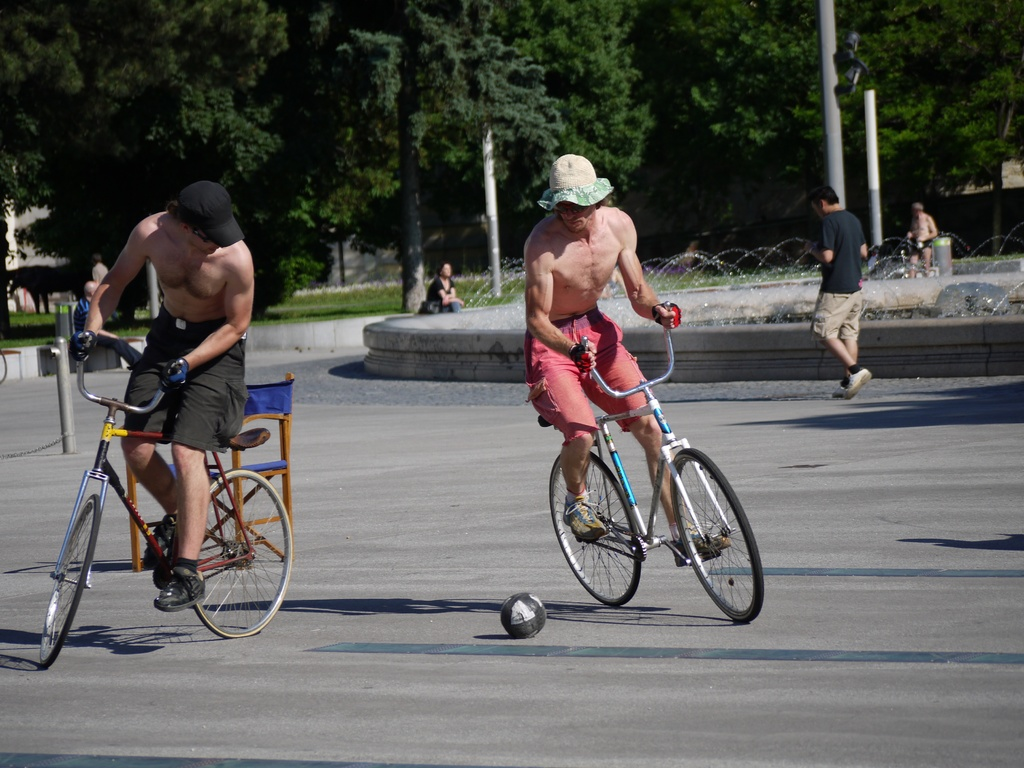Bike_toward: (30, 329, 301, 675), (531, 315, 781, 628)
